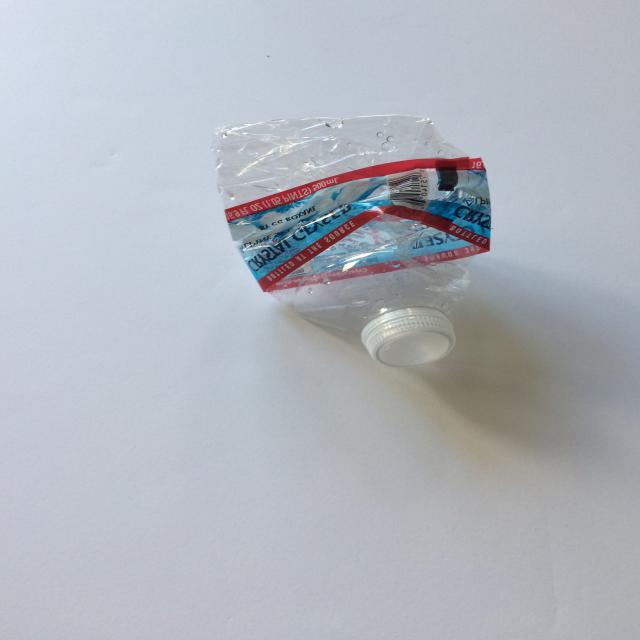plastic: (212, 113, 493, 367)
